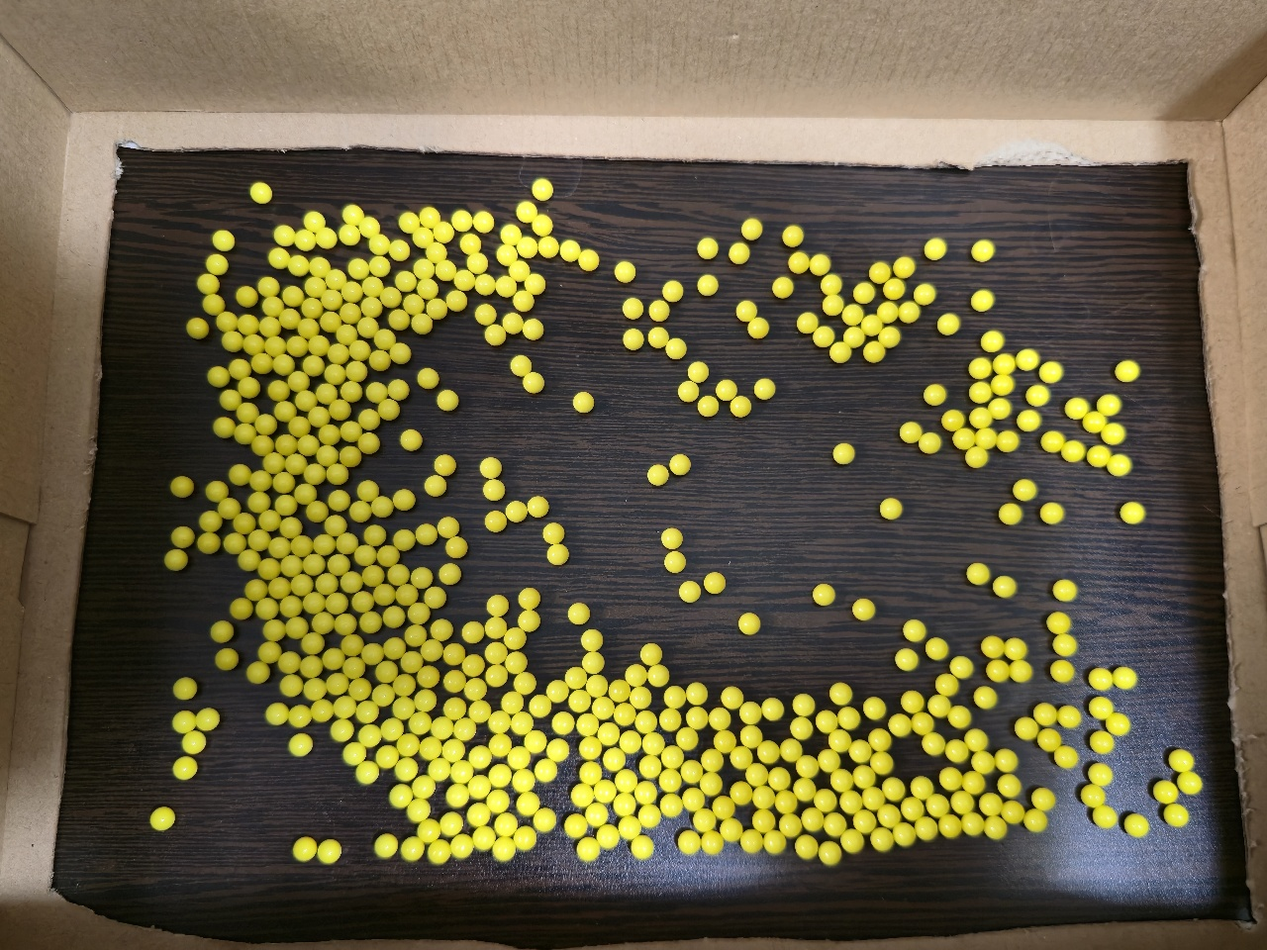yellow_bead: (499, 817, 513, 831), (1129, 819, 1144, 832), (323, 845, 336, 859), (582, 843, 595, 857), (406, 842, 419, 856), (538, 813, 551, 827), (522, 797, 535, 811), (451, 789, 464, 803), (599, 785, 612, 799), (539, 764, 552, 778), (608, 753, 621, 767), (516, 716, 529, 730), (473, 780, 485, 795), (1125, 507, 1140, 519), (472, 808, 485, 821), (492, 795, 505, 808), (576, 790, 589, 803), (620, 775, 633, 788), (517, 775, 530, 788), (494, 769, 507, 782), (400, 763, 413, 776), (666, 750, 679, 763), (348, 747, 361, 760), (551, 744, 564, 757), (363, 729, 376, 742), (386, 723, 399, 736), (380, 839, 392, 853), (445, 817, 457, 831), (155, 813, 169, 825), (1094, 769, 1108, 781), (1022, 415, 1036, 427), (1070, 403, 1084, 415), (1044, 366, 1058, 378), (498, 844, 511, 856), (298, 843, 310, 856), (636, 841, 648, 854), (683, 836, 695, 849), (478, 833, 491, 845), (602, 832, 615, 844), (412, 805, 425, 817), (418, 781, 430, 794), (455, 766, 468, 778), (361, 766, 373, 779), (644, 761, 656, 774), (513, 751, 525, 764), (474, 751, 486, 764), (447, 744, 459, 757), (647, 737, 659, 750), (795, 722, 808, 734), (582, 718, 594, 731), (557, 716, 569, 729), (493, 715, 505, 728), (201, 713, 214, 725), (798, 699, 810, 712), (574, 695, 586, 708), (669, 691, 681, 704), (998, 581, 1011, 593), (1031, 390, 1044, 402), (1121, 365, 1134, 377), (986, 335, 999, 347), (976, 295, 989, 307), (977, 244, 990, 256), (1099, 812, 1113, 823), (530, 735, 541, 749), (603, 727, 614, 741), (624, 823, 636, 835), (619, 799, 631, 811), (585, 768, 597, 780), (494, 740, 506, 752), (336, 724, 348, 736), (361, 706, 373, 718), (507, 697, 519, 709), (551, 686, 563, 698), (179, 683, 191, 695), (519, 678, 531, 690), (1095, 674, 1107, 686), (1120, 672, 1132, 684), (491, 670, 503, 682), (587, 657, 599, 669), (909, 624, 921, 636), (1114, 459, 1126, 471), (929, 242, 941, 254), (569, 822, 582, 833), (643, 810, 654, 823), (395, 790, 406, 803), (1003, 780, 1014, 793), (434, 763, 445, 776), (381, 750, 392, 763), (425, 742, 436, 755), (715, 712, 726, 725), (1004, 509, 1017, 520), (519, 831, 529, 845), (625, 735, 635, 749), (1058, 585, 1072, 595), (800, 842, 811, 854), (845, 835, 856, 847), (665, 801, 677, 812), (1174, 755, 1186, 766), (584, 743, 596, 754), (459, 723, 470, 735), (894, 719, 905, 731), (178, 716, 189, 728), (744, 708, 756, 719), (767, 704, 779, 715), (932, 701, 944, 712), (535, 700, 546, 712), (420, 695, 431, 707), (979, 692, 990, 704), (377, 690, 388, 702), (692, 688, 703, 700), (469, 684, 480, 696), (309, 684, 320, 696), (591, 680, 602, 692), (955, 661, 966, 673), (510, 657, 521, 669), (426, 644, 437, 656), (509, 632, 520, 644), (523, 615, 535, 626), (857, 605, 869, 616), (492, 600, 503, 612), (818, 589, 829, 601), (684, 586, 695, 598), (669, 556, 680, 568), (885, 504, 897, 515), (1019, 485, 1031, 496), (905, 427, 917, 438), (928, 389, 940, 400), (974, 387, 986, 398), (1022, 354, 1034, 365), (942, 319, 954, 330), (858, 287, 870, 298), (419, 263, 430, 275), (502, 248, 513, 260), (506, 229, 517, 241), (746, 223, 757, 235), (404, 217, 415, 229), (309, 217, 320, 229), (478, 216, 489, 228), (456, 215, 467, 227), (255, 187, 266, 199), (639, 786, 649, 799), (750, 768, 760, 781), (801, 760, 811, 773), (970, 734, 983, 744), (681, 732, 691, 745), (437, 721, 447, 734), (364, 222, 374, 235), (537, 219, 547, 232), (537, 183, 547, 196), (433, 848, 444, 859), (423, 826, 434, 837), (414, 718, 425, 729), (294, 711, 305, 722), (597, 703, 608, 714), (490, 648, 501, 659), (436, 624, 447, 635), (743, 618, 754, 629), (709, 578, 720, 589), (416, 572, 427, 583), (666, 533, 677, 544), (488, 485, 499, 496), (485, 462, 496, 473), (838, 448, 849, 459), (516, 360, 527, 371), (802, 318, 813, 329), (480, 309, 491, 320), (919, 288, 930, 299), (667, 286, 678, 297), (501, 281, 512, 292), (400, 276, 411, 287), (620, 266, 631, 277), (514, 265, 525, 276), (374, 261, 385, 272), (273, 252, 284, 263), (522, 241, 533, 252), (374, 238, 385, 249), (321, 232, 332, 243), (876, 834, 886, 846), (706, 754, 716, 766), (927, 738, 937, 750), (1020, 722, 1030, 734), (821, 715, 831, 727), (727, 692, 737, 704), (634, 692, 644, 704), (834, 688, 844, 700), (285, 680, 295, 692), (570, 672, 580, 684), (653, 670, 663, 682), (631, 670, 641, 682), (901, 654, 911, 666), (972, 568, 982, 580), (472, 257, 482, 269), (565, 244, 575, 256), (394, 244, 404, 256), (465, 238, 475, 250), (279, 231, 291, 241), (343, 230, 355, 240), (824, 847, 833, 860), (1002, 754, 1011, 767), (664, 713, 673, 726), (698, 816, 708, 827), (640, 717, 650, 728), (474, 707, 485, 717), (398, 704, 409, 714), (448, 703, 458, 714), (339, 702, 349, 713), (467, 627, 478, 637), (490, 622, 500, 633), (413, 608, 424, 618), (430, 592, 440, 603), (444, 569, 455, 579), (552, 549, 563, 559), (341, 538, 352, 548), (399, 534, 409, 545), (421, 529, 432, 539), (442, 522, 453, 532), (1045, 508, 1055, 519), (511, 507, 522, 517), (652, 470, 663, 480), (971, 452, 982, 462), (925, 437, 935, 448), (995, 403, 1006, 413), (703, 401, 714, 411), (578, 397, 588, 408), (442, 395, 452, 406), (683, 386, 694, 396), (759, 384, 770, 394), (974, 362, 985, 372), (835, 347, 846, 357), (508, 318, 518, 329), (847, 309, 858, 319), (905, 307, 915, 318), (741, 306, 752, 316), (628, 303, 638, 314), (480, 279, 490, 290), (459, 275, 469, 286), (440, 265, 451, 275), (353, 263, 363, 274), (899, 261, 910, 271), (816, 259, 826, 270), (212, 259, 223, 269), (794, 256, 804, 267), (584, 254, 594, 265), (734, 247, 744, 258), (703, 242, 713, 253), (299, 235, 310, 245), (590, 808, 602, 817), (688, 795, 697, 807), (887, 783, 896, 795), (691, 712, 700, 724), (456, 840, 464, 853), (686, 766, 694, 779), (951, 744, 959, 757), (294, 739, 307, 747), (745, 730, 753, 743), (1036, 794, 1046, 804), (271, 709, 281, 719), (868, 703, 878, 713), (573, 609, 583, 619), (331, 599, 341, 609), (333, 559, 343, 569), (548, 528, 558, 538), (377, 502, 387, 512), (430, 481, 440, 491), (406, 435, 416, 445), (423, 373, 433, 383), (693, 367, 703, 377), (671, 343, 681, 353), (884, 332, 894, 342), (654, 306, 664, 316), (828, 300, 838, 310), (519, 296, 529, 306), (451, 296, 461, 306), (385, 292, 395, 302), (423, 283, 433, 293), (703, 280, 713, 290), (293, 260, 303, 270), (418, 233, 428, 243), (425, 212, 435, 222), (858, 817, 867, 828), (819, 795, 828, 806), (448, 676, 457, 687), (645, 649, 654, 660), (930, 643, 939, 654), (345, 577, 354, 588), (393, 569, 404, 578), (359, 550, 370, 559), (398, 495, 409, 504), (675, 459, 684, 470), (868, 346, 877, 357), (629, 333, 638, 344), (848, 333, 859, 342), (818, 332, 829, 341), (867, 320, 876, 331), (218, 236, 229, 245), (439, 227, 448, 238), (1102, 400, 1116, 407), (769, 837, 777, 849), (725, 825, 733, 837), (799, 785, 807, 797), (916, 782, 924, 794), (705, 779, 713, 791), (843, 712, 851, 724), (332, 678, 340, 690), (974, 413, 986, 421), (824, 754, 831, 767), (786, 744, 793, 757), (1029, 817, 1038, 827), (976, 757, 986, 766), (404, 741, 413, 751), (940, 679, 949, 689), (1058, 640, 1068, 649), (410, 630, 420, 639), (309, 559, 319, 568), (533, 502, 542, 512), (1111, 428, 1121, 437), (371, 388, 381, 397), (393, 385, 403, 394), (395, 348, 405, 357), (653, 333, 663, 342), (490, 330, 500, 339), (528, 324, 537, 334), (362, 323, 372, 332), (417, 319, 427, 328), (883, 307, 893, 316), (432, 304, 441, 314), (366, 302, 376, 311), (530, 279, 539, 289), (331, 274, 341, 283), (315, 262, 325, 271), (432, 247, 441, 257), (745, 837, 753, 848), (835, 776, 843, 787), (944, 773, 952, 784), (906, 696, 914, 707), (388, 612, 399, 620), (490, 517, 501, 525), (829, 819, 836, 831), (590, 634, 597, 646), (762, 748, 771, 757), (953, 711, 962, 720), (619, 711, 628, 720), (284, 657, 293, 666), (321, 578, 330, 587), (451, 542, 460, 551), (439, 460, 448, 469), (958, 433, 967, 442), (327, 295, 336, 304), (784, 821, 792, 831), (932, 800, 940, 810), (956, 798, 964, 808), (868, 795, 876, 805), (833, 736, 841, 746), (1038, 709, 1048, 717), (381, 666, 391, 674), (308, 598, 318, 606), (983, 433, 991, 443), (308, 360, 318, 368), (379, 334, 389, 342), (267, 302, 277, 310), (409, 300, 419, 308), (346, 287, 356, 295), (778, 282, 788, 290), (310, 282, 320, 290), (263, 282, 273, 290), (899, 830, 906, 841), (807, 814, 814, 825), (758, 793, 765, 804), (774, 774, 781, 785), (178, 762, 185, 773), (735, 753, 742, 764), (467, 660, 474, 671), (1011, 643, 1018, 654), (524, 593, 531, 604), (883, 813, 891, 822), (906, 806, 915, 814), (845, 799, 853, 808), (859, 771, 865, 783), (286, 560, 295, 568), (275, 542, 283, 551), (355, 506, 364, 514), (309, 469, 318, 477), (383, 404, 392, 412), (330, 369, 339, 377), (333, 348, 341, 357), (354, 345, 363, 353), (753, 323, 762, 331), (394, 315, 402, 324), (307, 303, 316, 311), (367, 282, 376, 290), (203, 279, 212, 287), (922, 825, 929, 835), (874, 734, 881, 744), (253, 668, 260, 678), (406, 656, 416, 663), (330, 521, 340, 528), (362, 486, 372, 493), (363, 437, 373, 444), (351, 366, 361, 373), (874, 267, 884, 274), (788, 231, 798, 238), (969, 819, 975, 830), (725, 385, 731, 396), (858, 745, 863, 758), (193, 736, 201, 744), (306, 661, 314, 669), (367, 648, 375, 656), (269, 624, 277, 632), (364, 415, 372, 423), (314, 412, 322, 420), (279, 359, 287, 367), (288, 291, 296, 299), (707, 840, 714, 849), (718, 805, 725, 814), (984, 802, 993, 809), (318, 618, 327, 625), (357, 597, 366, 604), (297, 580, 306, 587), (244, 555, 251, 564), (322, 450, 331, 457), (1046, 437, 1055, 444), (1004, 435, 1013, 442), (322, 389, 331, 396), (999, 359, 1008, 366), (991, 823, 997, 833), (664, 775, 669, 787), (614, 686, 620, 696), (398, 681, 408, 687), (522, 206, 528, 216), (719, 737, 726, 745), (328, 653, 336, 660), (390, 643, 398, 650), (341, 619, 349, 626), (262, 604, 270, 611), (402, 590, 410, 597), (280, 500, 288, 507), (334, 495, 341, 503), (1070, 445, 1078, 452), (301, 396, 309, 403), (293, 376, 301, 383), (345, 308, 353, 315), (533, 377, 538, 388), (1066, 711, 1072, 720), (307, 638, 316, 644), (319, 539, 328, 545), (286, 522, 295, 528), (235, 364, 244, 370), (291, 623, 301, 628), (345, 387, 355, 392), (448, 649, 455, 656), (230, 538, 237, 545), (314, 340, 321, 347), (228, 336, 235, 343), (757, 818, 765, 824), (354, 687, 360, 695), (217, 626, 225, 632), (365, 618, 373, 624), (383, 550, 391, 556), (254, 535, 262, 541), (371, 530, 379, 536), (304, 440, 312, 446), (341, 330, 349, 336), (265, 322, 273, 328), (222, 317, 230, 323), (1018, 668, 1023, 677), (300, 489, 309, 494), (332, 469, 341, 474), (1188, 781, 1194, 788), (876, 760, 883, 766), (319, 706, 326, 712), (423, 673, 430, 679), (266, 647, 272, 654), (987, 642, 994, 648), (171, 555, 177, 562), (269, 458, 276, 464), (830, 279, 836, 286), (1059, 755, 1069, 759), (348, 663, 356, 668), (379, 590, 387, 595), (253, 498, 261, 503), (291, 459, 299, 464), (226, 395, 234, 400), (374, 355, 382, 360), (889, 284, 899, 288), (781, 800, 787, 806), (287, 602, 293, 608), (280, 477, 286, 483), (345, 427, 354, 431), (178, 532, 185, 537), (265, 516, 272, 521), (219, 423, 226, 428), (261, 420, 268, 425), (740, 401, 745, 408), (244, 382, 251, 387), (214, 372, 221, 377), (326, 317, 333, 322), (286, 314, 293, 319), (209, 300, 217, 304), (1174, 812, 1179, 818), (1090, 795, 1096, 800), (1055, 671, 1065, 674), (225, 504, 231, 509), (256, 476, 262, 481), (241, 428, 247, 433), (244, 408, 250, 413), (1052, 619, 1059, 623), (206, 517, 213, 521), (336, 405, 343, 409), (736, 790, 741, 795), (370, 571, 375, 576), (214, 487, 219, 492), (236, 469, 241, 474), (1094, 705, 1100, 709), (346, 451, 352, 455), (281, 407, 287, 411), (293, 341, 299, 345), (273, 341, 279, 345), (250, 339, 256, 343), (998, 381, 1005, 384), (304, 324, 311, 327), (919, 721, 924, 725), (994, 668, 999, 672), (277, 583, 281, 588), (314, 507, 319, 511), (1096, 450, 1101, 454), (193, 324, 198, 328), (244, 320, 248, 325), (1099, 741, 1105, 744), (325, 430, 331, 433), (946, 823, 950, 827), (300, 541, 304, 545), (284, 439, 288, 443), (297, 422, 301, 426), (349, 642, 354, 645), (276, 386, 281, 389), (259, 358, 264, 361), (243, 292, 248, 295), (543, 243, 545, 250), (1010, 810, 1014, 813), (970, 781, 974, 784), (1118, 722, 1121, 726), (1164, 790, 1167, 793), (1047, 737, 1050, 740), (266, 564, 269, 567), (261, 441, 264, 444), (207, 538, 209, 542), (180, 482, 182, 486), (347, 212, 349, 216), (243, 519, 245, 522), (593, 820, 595, 822), (225, 656, 227, 658), (255, 587, 257, 589), (187, 742, 188, 744), (592, 818, 593, 819), (602, 812, 603, 813), (188, 740, 189, 741), (190, 738, 191, 739), (1101, 713, 1102, 714), (952, 415, 953, 416), (739, 411, 740, 412), (546, 251, 547, 252), (350, 210, 351, 211)
